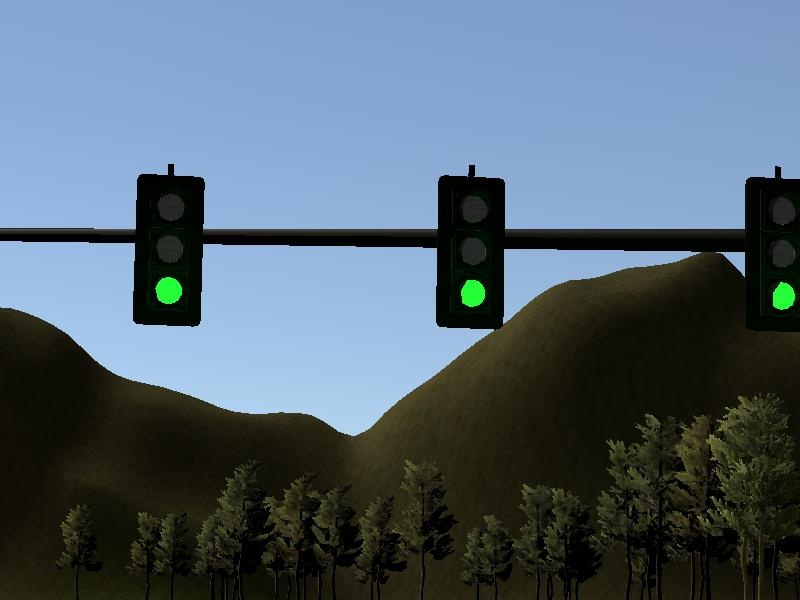GREEN: (132, 175, 203, 326), (438, 176, 503, 328), (742, 177, 800, 329)
